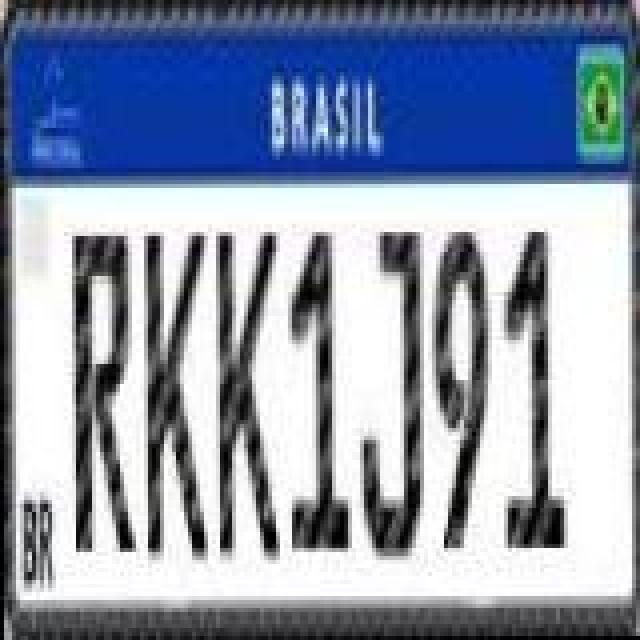1: (286, 228, 350, 552), (502, 226, 566, 550)
9: (426, 222, 490, 558)
J: (356, 226, 424, 570)
K: (216, 230, 284, 566), (146, 230, 210, 566)
R: (74, 224, 138, 560)
